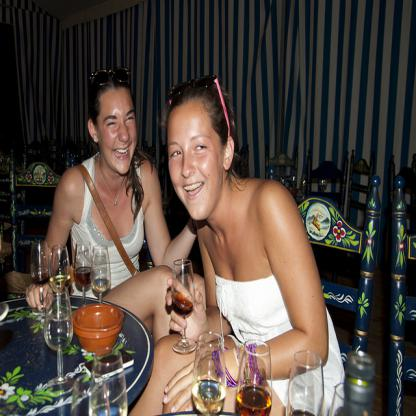handbag: (74, 159, 135, 273)
